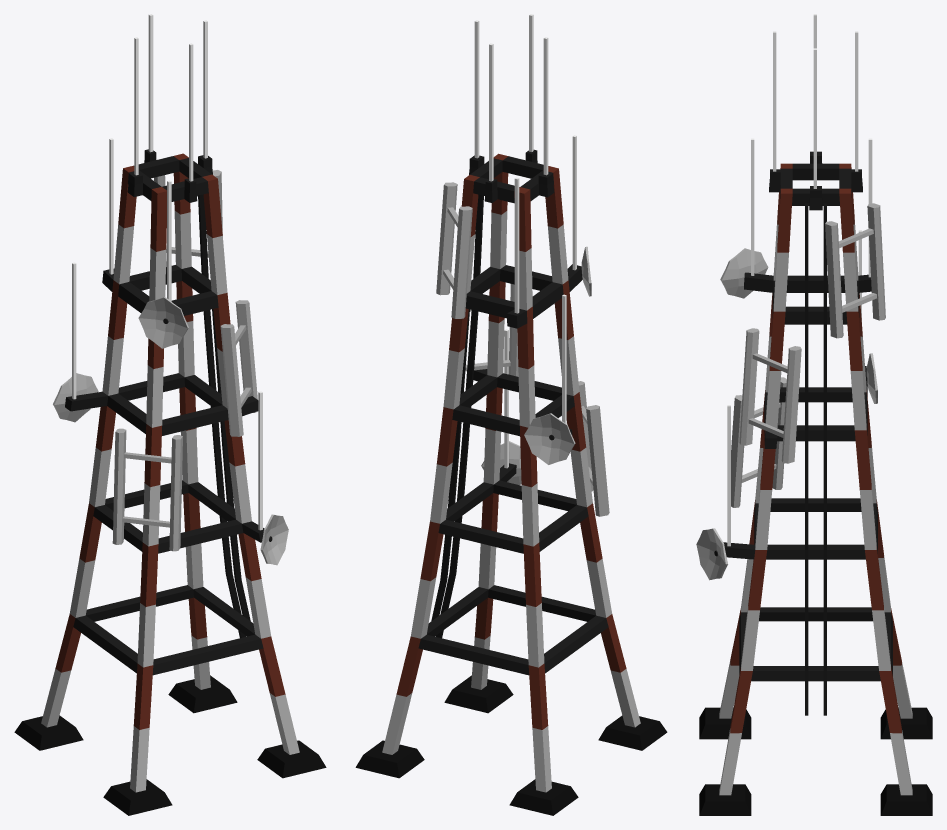
The model's file is RadioTower.obj.
3 views of the same model, side by side, from view 1: azimuth 30°, elevation 25°; view 2: azimuth 150°, elevation 25°; view 3: azimuth 270°, elevation 25° (orthographic). The views are drawn at different scales.
Parts seen in each view (by area): view 1: Cube.095; view 2: Cube.095; view 3: Cube.095.
Part boxes in pixels (bbox=[...]): Cube.095: bbox=[14, 14, 326, 815]; Cube.095: bbox=[355, 14, 667, 815]; Cube.095: bbox=[696, 14, 932, 815].
Bounding box in the file's own units: 4.7 × 16.34 × 4.76.
